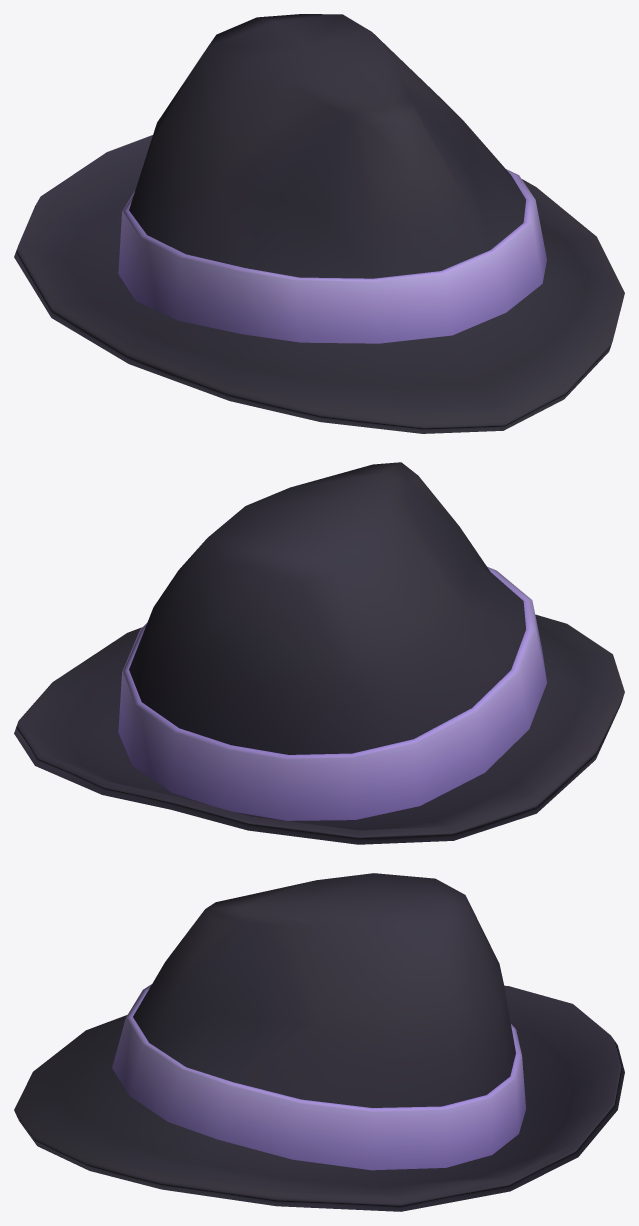
File: hat.fbx
3 renders of one model, top to bottom at view 1: azimuth 30°, elevation 25°; view 2: azimuth 150°, elevation 25°; view 3: azimuth 270°, elevation 25°, orthographic. The views are drawn at different scales.
Visible parts, largest first — view 1: hat; view 2: hat; view 3: hat.
Boxes of the visible parts, x1,y1,x2,y2 form: hat: (14, 14, 624, 433); hat: (14, 462, 624, 844); hat: (14, 873, 624, 1211).
Bounding box in the file's own units: 25.9 × 12.32 × 30.98.
